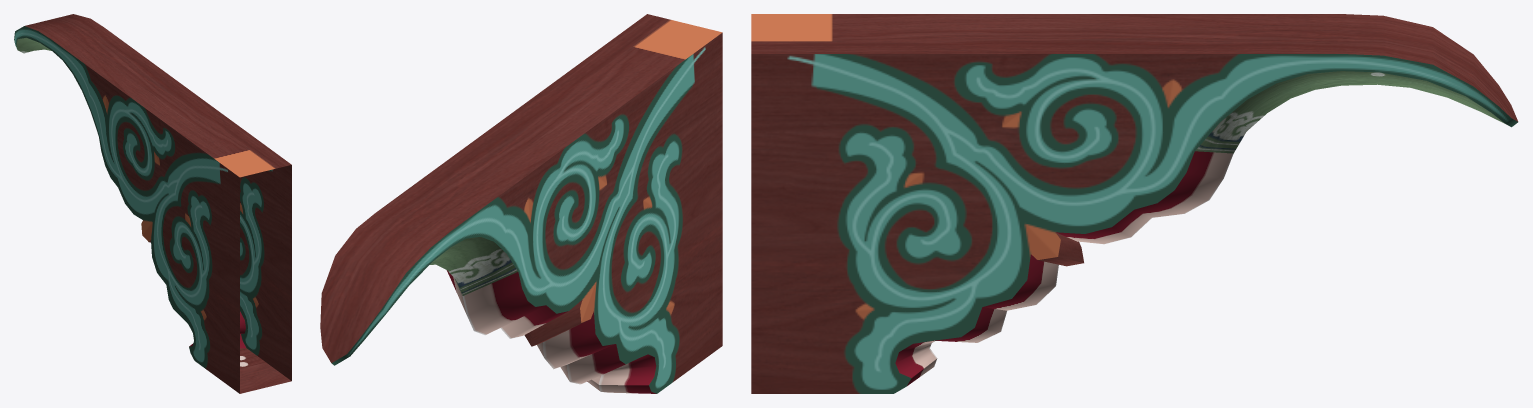
File: SM_SJM_BoajiA_04.fbx
The picture shows the model from 3 angles, left to right: view 1: azimuth 30°, elevation 25°; view 2: azimuth 150°, elevation 25°; view 3: azimuth 270°, elevation 25°; orthographic projection. The views are drawn at different scales.
Visible parts, largest first — view 1: SM_SJM_BoajiA_04; view 2: SM_SJM_BoajiA_04; view 3: SM_SJM_BoajiA_04.
Part boxes in pixels (x1,y1,x2,y2): SM_SJM_BoajiA_04: (14, 14, 291, 393); SM_SJM_BoajiA_04: (320, 14, 722, 393); SM_SJM_BoajiA_04: (751, 14, 1518, 393).
Size of the model in its own units: 10 by 81.22 by 39.73.
1 material, 1 textured.
